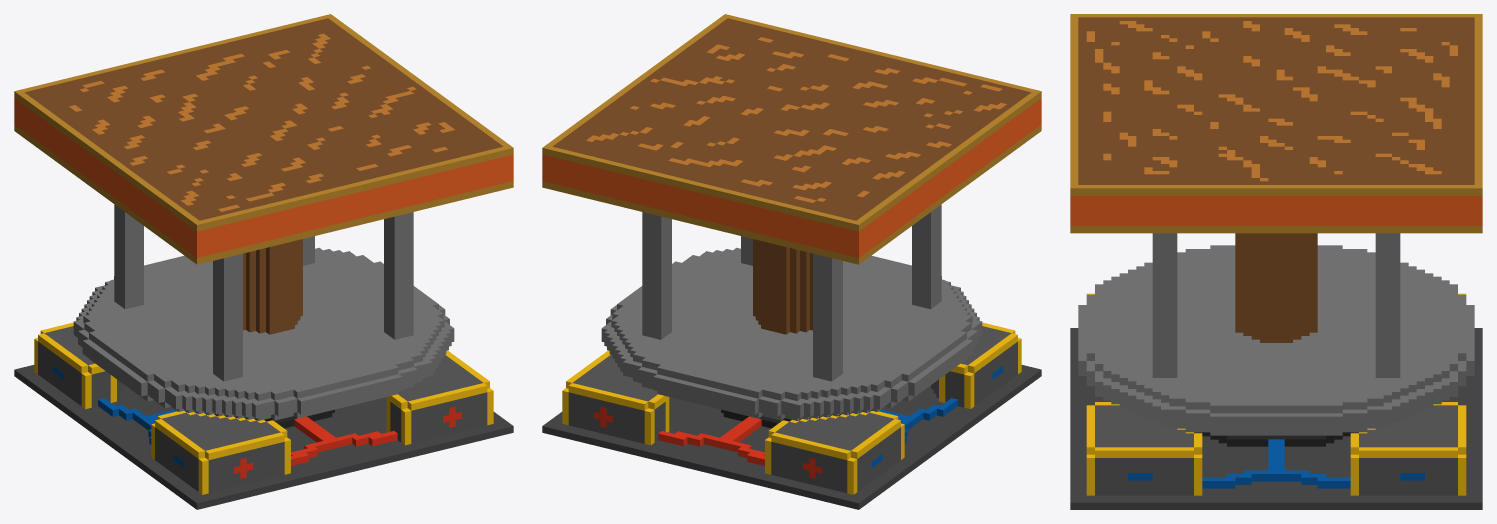
The model's file is крутящий елемент.obj.
3 views of the same model, side by side, from view 1: azimuth 30°, elevation 25°; view 2: azimuth 150°, elevation 25°; view 3: azimuth 270°, elevation 25° (orthographic). The views are drawn at different scales.
Bounding box in the file's own units: 5 × 4.3 × 5.
Materials: 1 (1 with a texture image).
